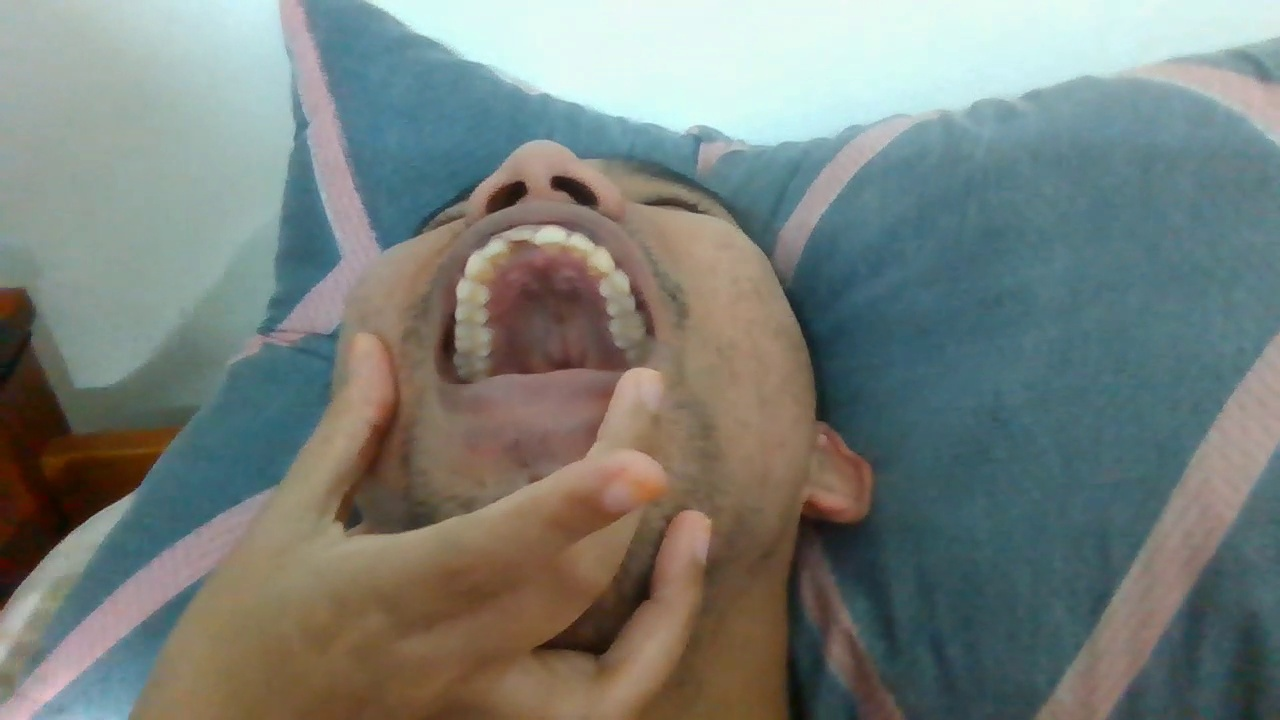1st Molar: (608, 314, 646, 347), (454, 325, 490, 354)
1st Premolar: (455, 279, 489, 303), (598, 271, 630, 295)
2nd Molar: (453, 355, 492, 378)
2nd Premolar: (454, 305, 490, 324), (605, 294, 636, 316)
Canine: (464, 255, 498, 281), (587, 247, 615, 274)
Central Incisor: (505, 223, 538, 243), (537, 224, 567, 244)
Lateral Incisor: (567, 230, 596, 253), (481, 237, 510, 258)
